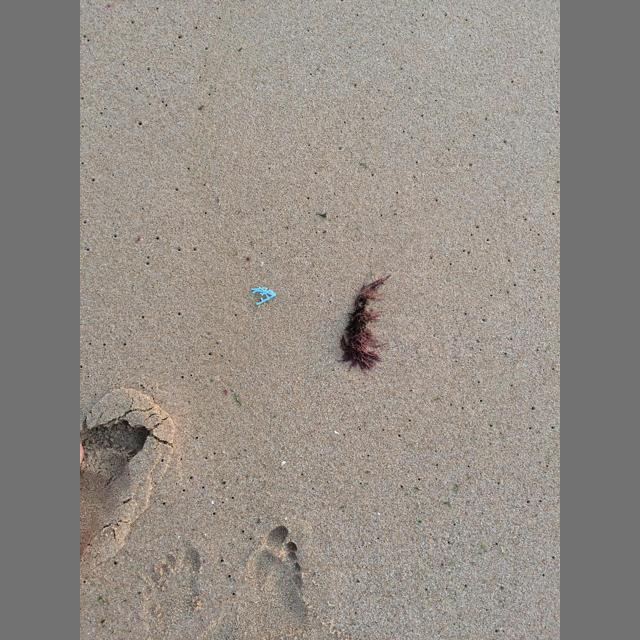litter: (251, 286, 276, 305)
